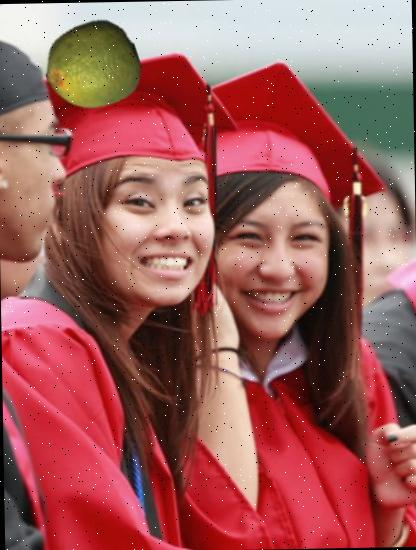Limes: (43, 17, 140, 113)
